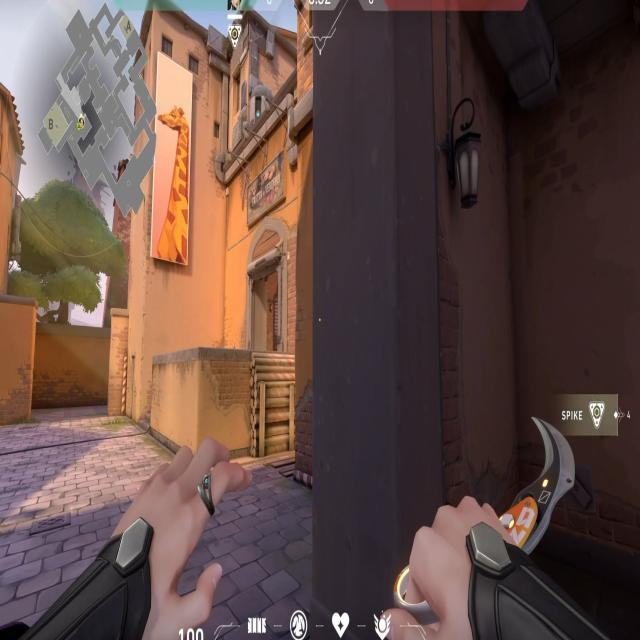B_Cubby: (198, 344, 308, 482)
